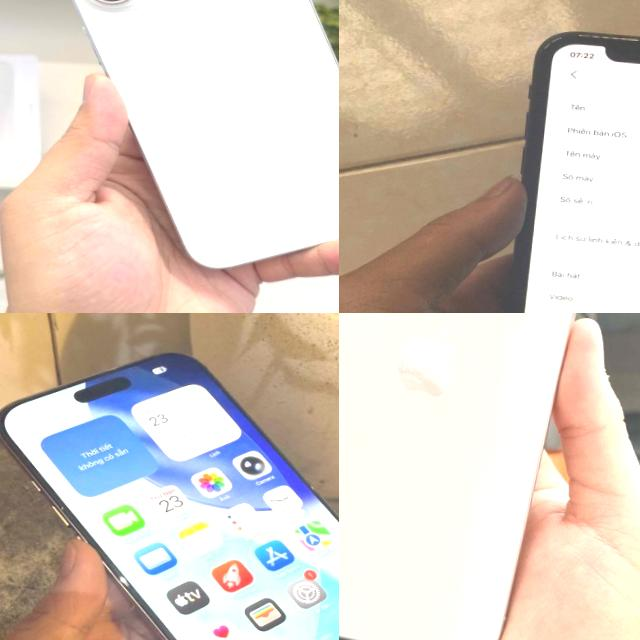gen_11: (507, 33, 640, 313)
gen_15: (339, 313, 617, 640)
gen_16: (0, 353, 339, 640), (33, 0, 339, 276)
scratch: (454, 586, 469, 600)
